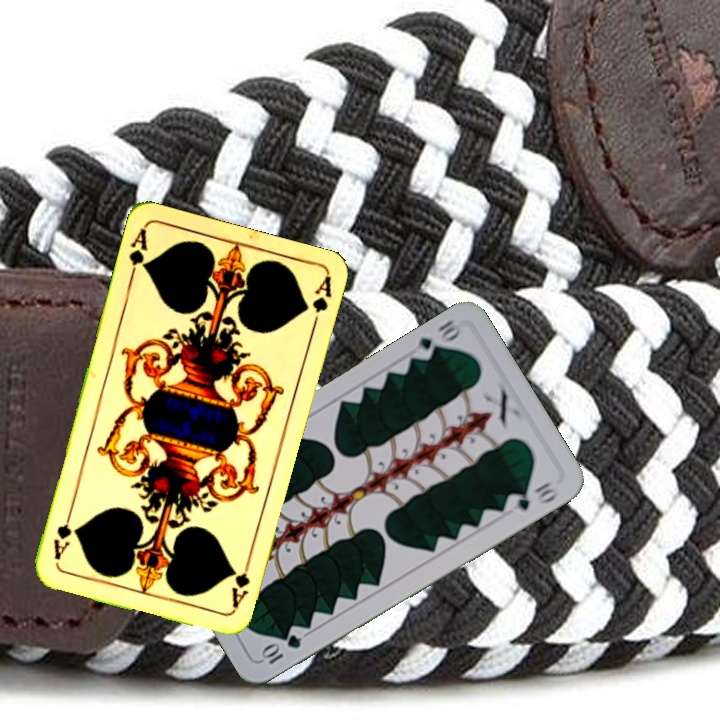G10: (408, 315, 466, 364), (257, 630, 304, 667)
GA: (227, 554, 254, 611), (125, 225, 151, 283)
